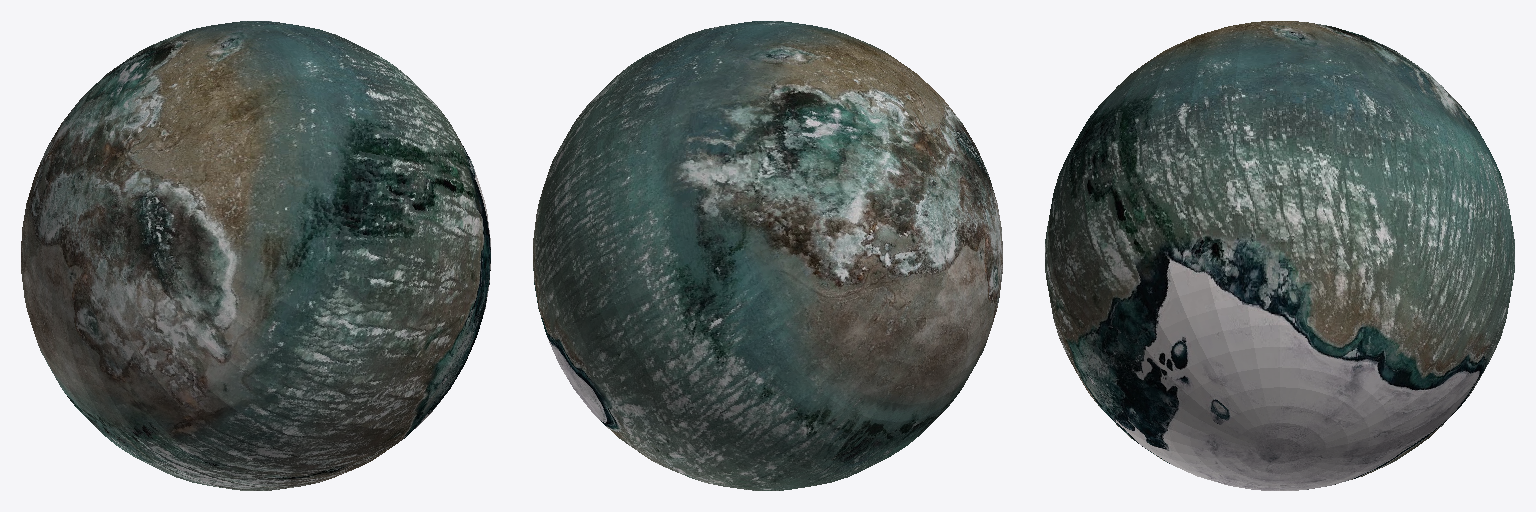
3 renders of one model, left to right at view 1: azimuth 30°, elevation 25°; view 2: azimuth 150°, elevation 25°; view 3: azimuth 270°, elevation 25°, orthographic.
Visible parts, largest first — view 1: Plane; view 2: Plane; view 3: Plane.
Boxes of the visible parts, x1,y1,x2,y2 form: Plane: [21, 21, 490, 490]; Plane: [533, 21, 1002, 490]; Plane: [1045, 21, 1514, 490].
Bounding box in the file's own units: 30.18 × 30.18 × 30.21.
1 materials, 1 textured.